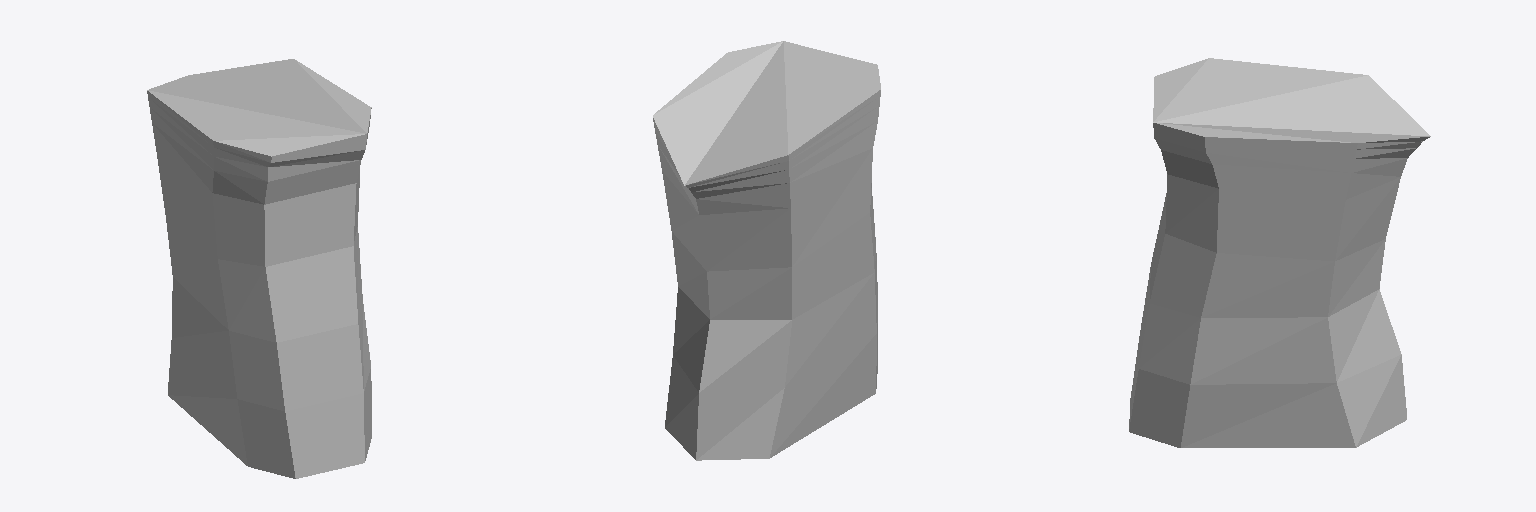
File: shoe tube2.obj
3 views of the same model, side by side, from view 1: azimuth 30°, elevation 25°; view 2: azimuth 150°, elevation 25°; view 3: azimuth 270°, elevation 25° (orthographic).
Visible parts, largest first — view 1: shoe_tube; view 2: shoe_tube; view 3: shoe_tube.
Boxes of the visible parts, box(x1,y1,x2,y2) form: shoe_tube: box(147, 59, 371, 478); shoe_tube: box(653, 41, 880, 460); shoe_tube: box(1129, 58, 1430, 447).
Size of the model in its own units: 50.59 by 99.2 by 84.91.